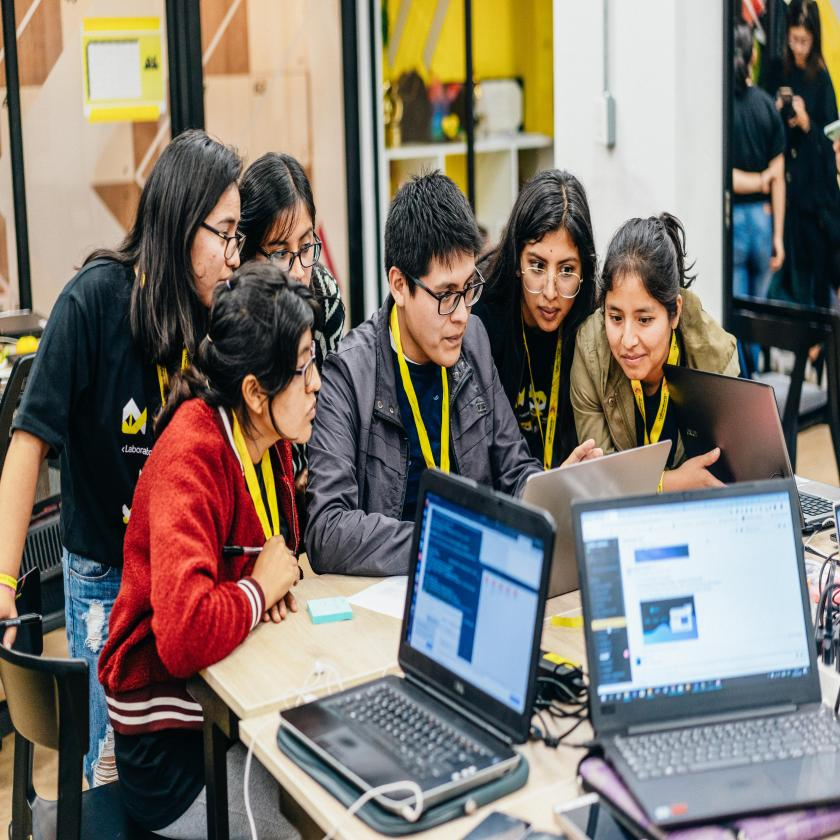Sin_casco: (214, 264, 322, 464), (387, 165, 480, 379), (504, 158, 602, 342), (142, 126, 242, 301), (600, 206, 688, 390), (246, 143, 324, 299)
